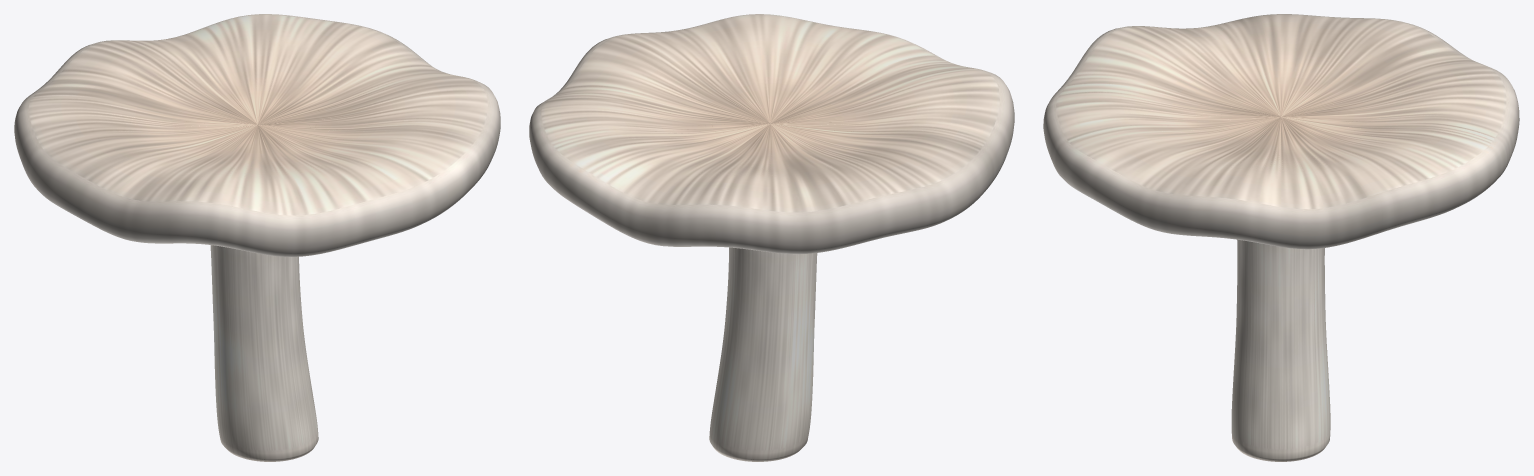
The model's file is lactarius-pubescens-drawn.glb.
3 views of the same model, side by side, from view 1: azimuth 30°, elevation 25°; view 2: azimuth 150°, elevation 25°; view 3: azimuth 270°, elevation 25° (orthographic).
Bounding box in the file's own units: 0.7699 × 0.6109 × 0.7694.
1 material, 1 textured.
